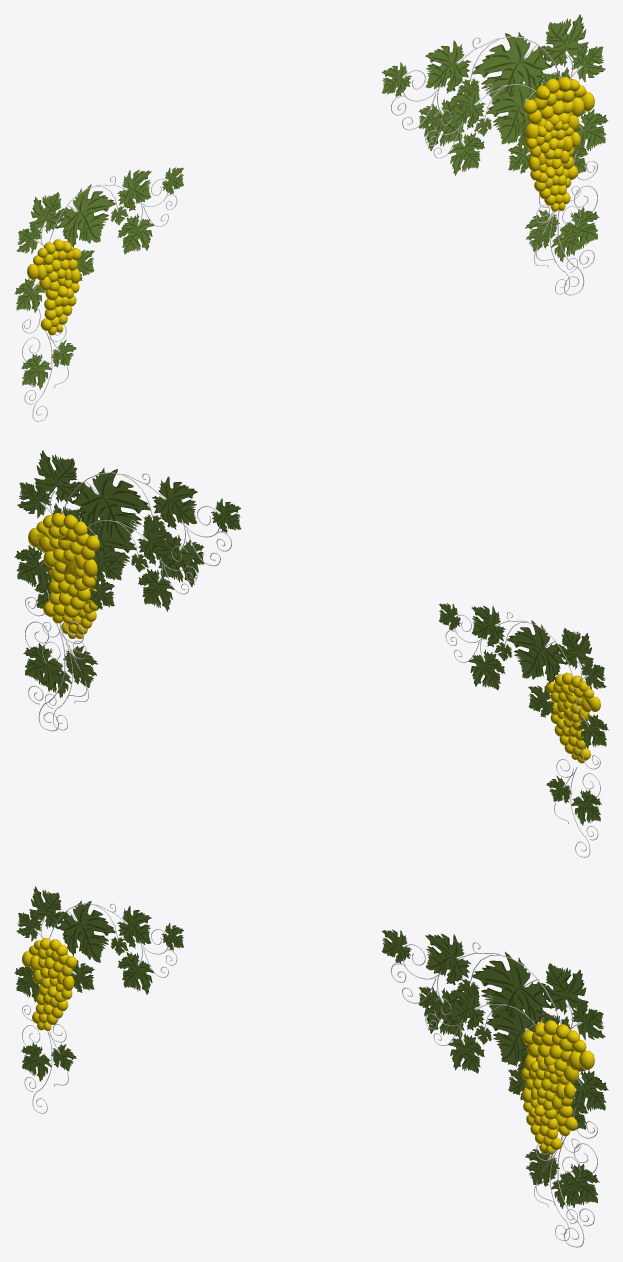
Rendered from FSM-SekilYazi.gltf.
3 views of the same model, one above another, from view 1: azimuth 30°, elevation 25°; view 2: azimuth 150°, elevation 25°; view 3: azimuth 330°, elevation 25° (orthographic).
Parts seen in each view (by area): view 1: Cube.002, Cube.004, Icosphere.001, Cube.005, Cube.019, Cube.023, Cube.007, Cube.021, Cube.017, Line.001, Cube.016, Cube.003 (+8 smaller); view 2: Cube.002, Icosphere.001, Cube.019, Cube.004, Cube.023, Line.001, Cube.021, Cube.016, Cube.017, Cube.011, Cube.012, Cube.022 (+9 smaller); view 3: Cube.002, Icosphere.001, Cube.004, Cube.005, Cube.019, Cube.023, Cube.007, Line.001, Cube.017, Cube.021, Cube.016, Cube.012 (+8 smaller).
Boxes of the visible parts, x1,y1,x2,y2 form: Cube.002: [14, 67, 580, 421]; Cube.004: [27, 239, 81, 335]; Icosphere.001: [523, 77, 594, 187]; Cube.005: [525, 120, 580, 211]; Cube.019: [472, 32, 551, 105]; Cube.023: [57, 184, 115, 248]; Cube.007: [486, 80, 535, 144]; Cube.021: [539, 14, 588, 67]; Cube.017: [425, 40, 470, 93]; Line.001: [391, 36, 597, 295]; Cube.016: [424, 99, 464, 150]; Cube.003: [117, 213, 154, 254]; Cube.002: [42, 503, 608, 857]; Icosphere.001: [28, 512, 99, 623]; Cube.019: [71, 468, 150, 547]; Cube.004: [545, 672, 600, 763]; Cube.023: [507, 620, 564, 684]; Line.001: [25, 472, 231, 731]; Cube.021: [34, 450, 83, 503]; Cube.016: [152, 533, 200, 586]; Cube.017: [152, 476, 197, 529]; Cube.011: [23, 643, 63, 691]; Cube.012: [14, 545, 52, 593]; Cube.022: [556, 628, 593, 669]; Cube.002: [14, 903, 580, 1240]; Icosphere.001: [522, 1020, 594, 1136]; Cube.004: [22, 938, 76, 1030]; Cube.005: [521, 1058, 575, 1154]; Cube.019: [472, 952, 551, 1029]; Cube.023: [57, 900, 115, 962]; Cube.007: [486, 1003, 533, 1063]; Line.001: [391, 942, 597, 1247]; Cube.017: [425, 933, 470, 985]; Cube.021: [539, 963, 588, 1014]; Cube.016: [424, 988, 464, 1038]; Cube.012: [571, 1070, 608, 1112].
Size of what is drawn, in the model's own units: 7.42 by 3.39 by 0.2747.
Materials: 3 (1 with a texture image).
